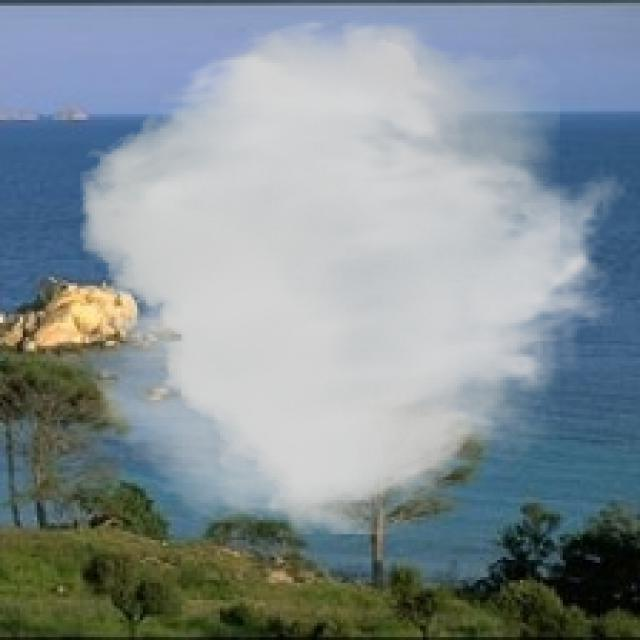smoke: (80, 14, 629, 534)
